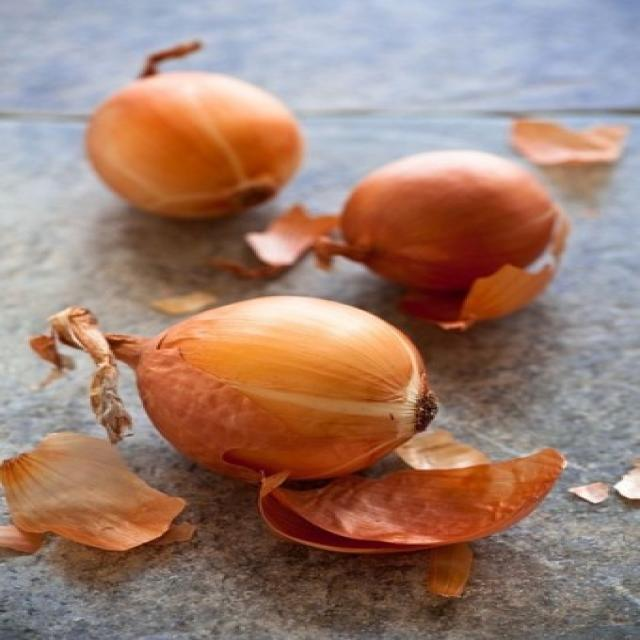onion: (79, 298, 512, 492), (321, 135, 584, 310), (65, 45, 320, 224)
